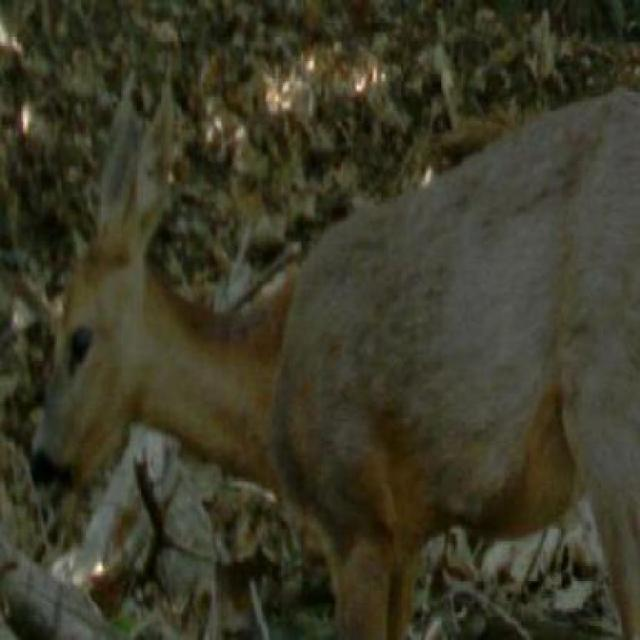Deer: (32, 51, 639, 638)
